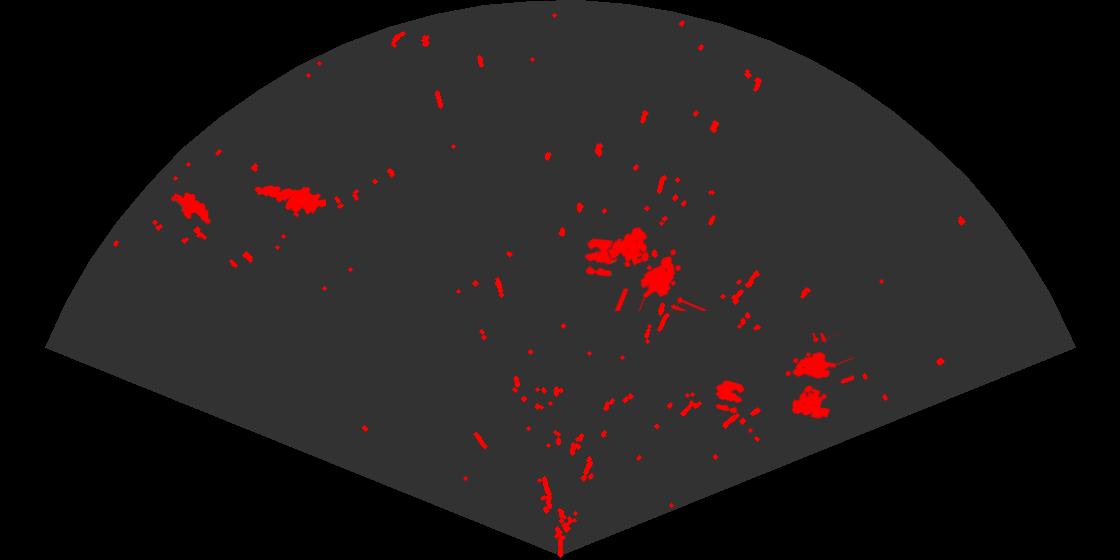AUV: (170, 191, 212, 225)
ball: (583, 237, 622, 278), (714, 379, 746, 415)
cage: (606, 226, 706, 311), (783, 333, 854, 421)
frogman: (253, 184, 326, 219)
